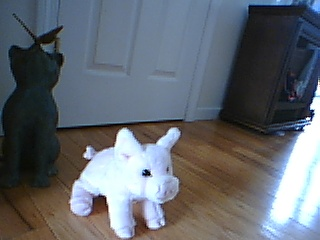piggy: (68, 125, 183, 239)
